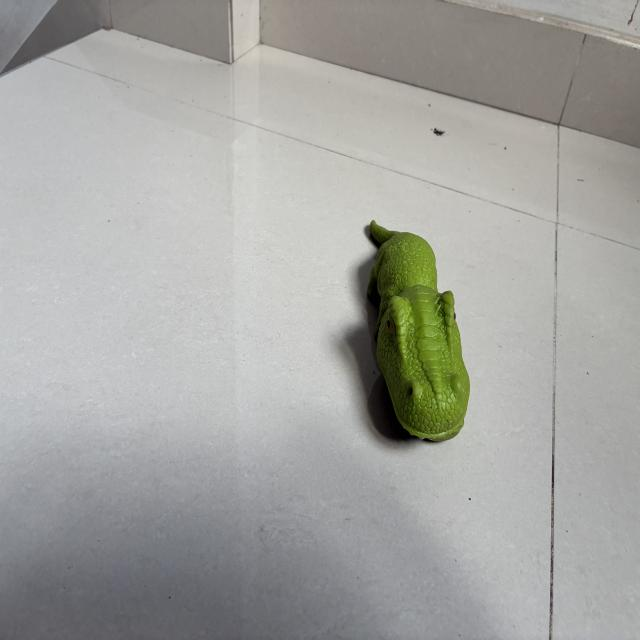dinosaur: (347, 203, 484, 453)
